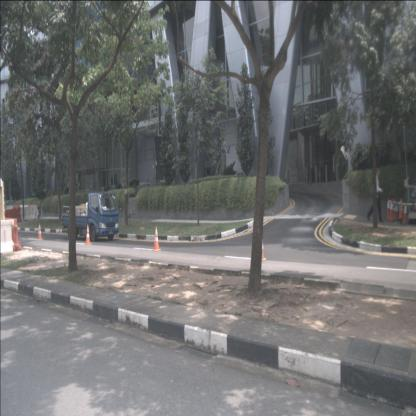barrier: (3, 217, 22, 252), (0, 219, 15, 255), (20, 205, 39, 223), (3, 207, 22, 223)
cone: (152, 226, 162, 252), (258, 233, 267, 261), (84, 224, 92, 246), (388, 198, 394, 223), (402, 200, 408, 225), (398, 198, 404, 221), (393, 200, 399, 221), (386, 198, 391, 221), (36, 223, 42, 241)
